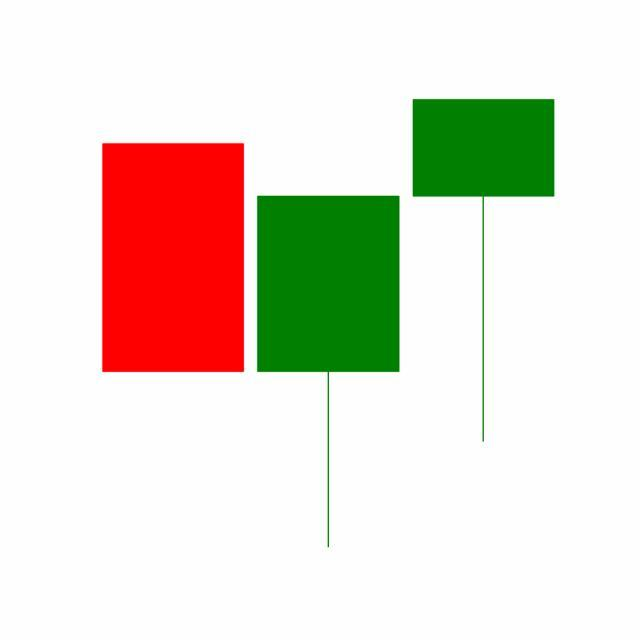Hanging Man: (406, 96, 562, 447)
